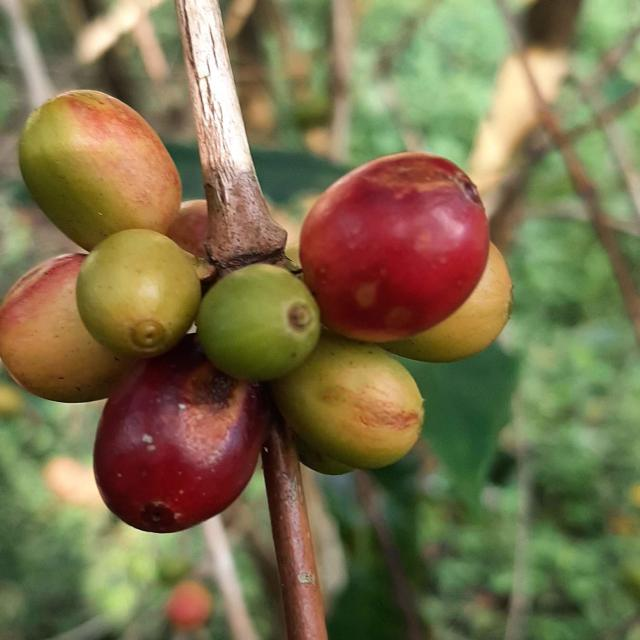green: (196, 264, 321, 382)
red: (300, 152, 490, 342), (93, 335, 268, 534)
yellow: (18, 89, 181, 250), (273, 333, 425, 470), (0, 253, 132, 403), (76, 229, 209, 359), (381, 243, 514, 363), (167, 199, 207, 259)
